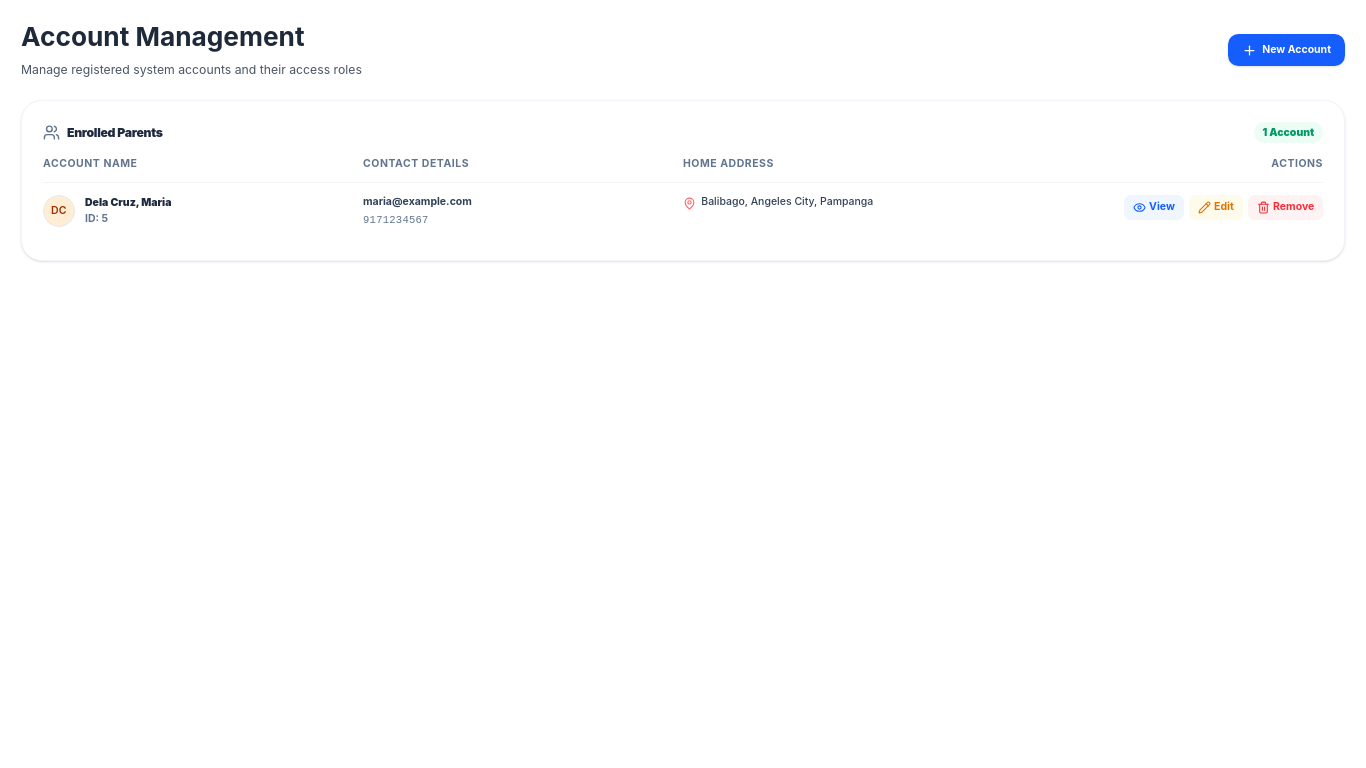
it: AccountManagement add/edit form is a popup › closes with Cancel, the close button, and Escape
The width and height of the screenshot is (1366, 768).
Click the button "New Account": (1286, 50) [1228,34,1345,66]
(page scrolled)
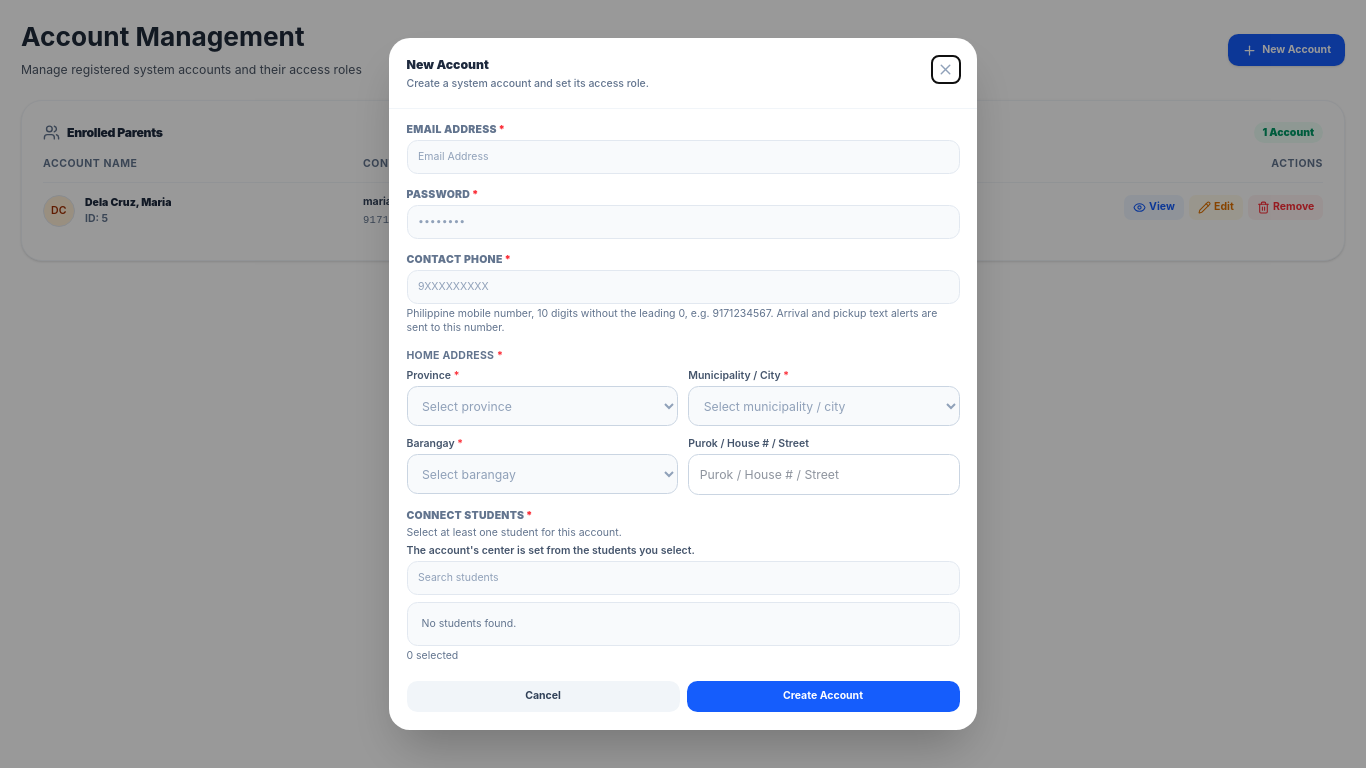
Result: the dialog is shown at [389,38,977,730]
Click the button "Cancel": (543, 696) [406,681,680,712]
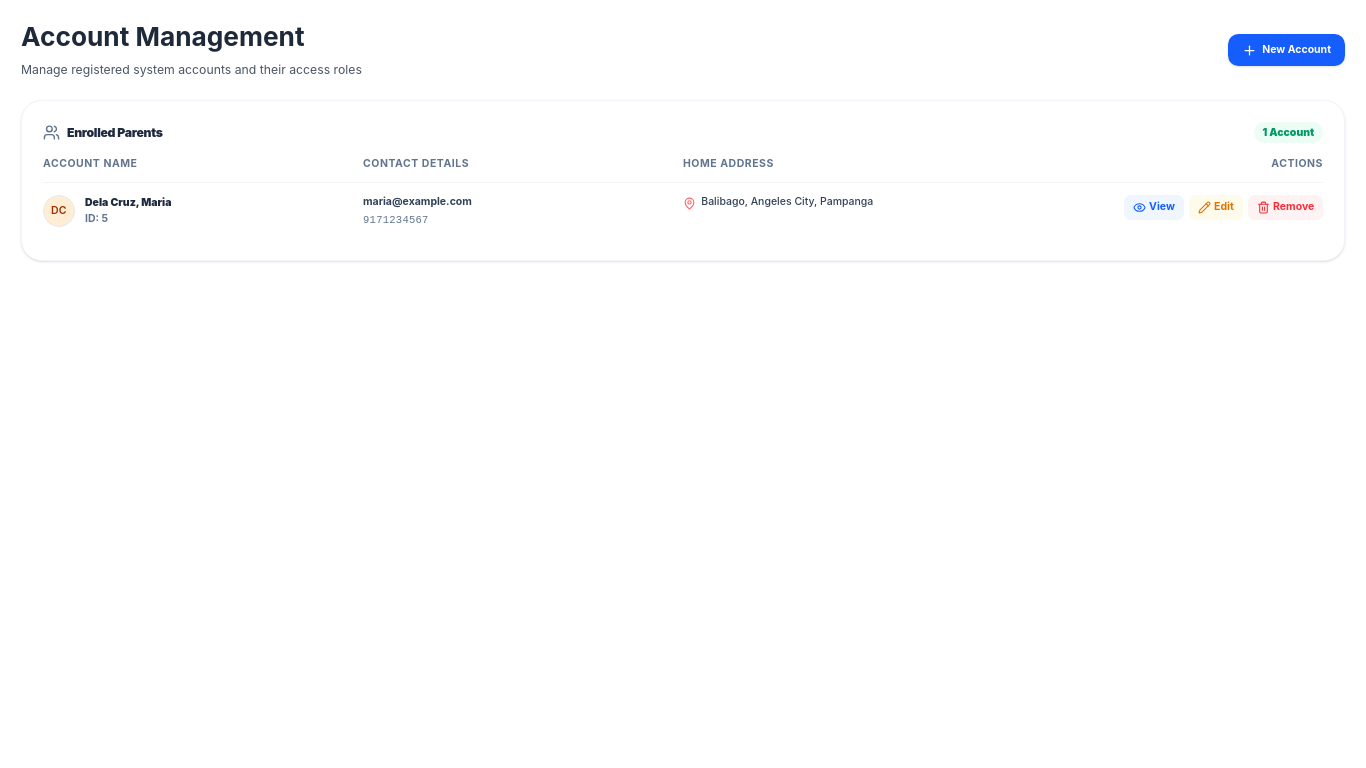
Result: the dialog is gone
Click the button "New Account": (1286, 50) [1228,34,1345,66]
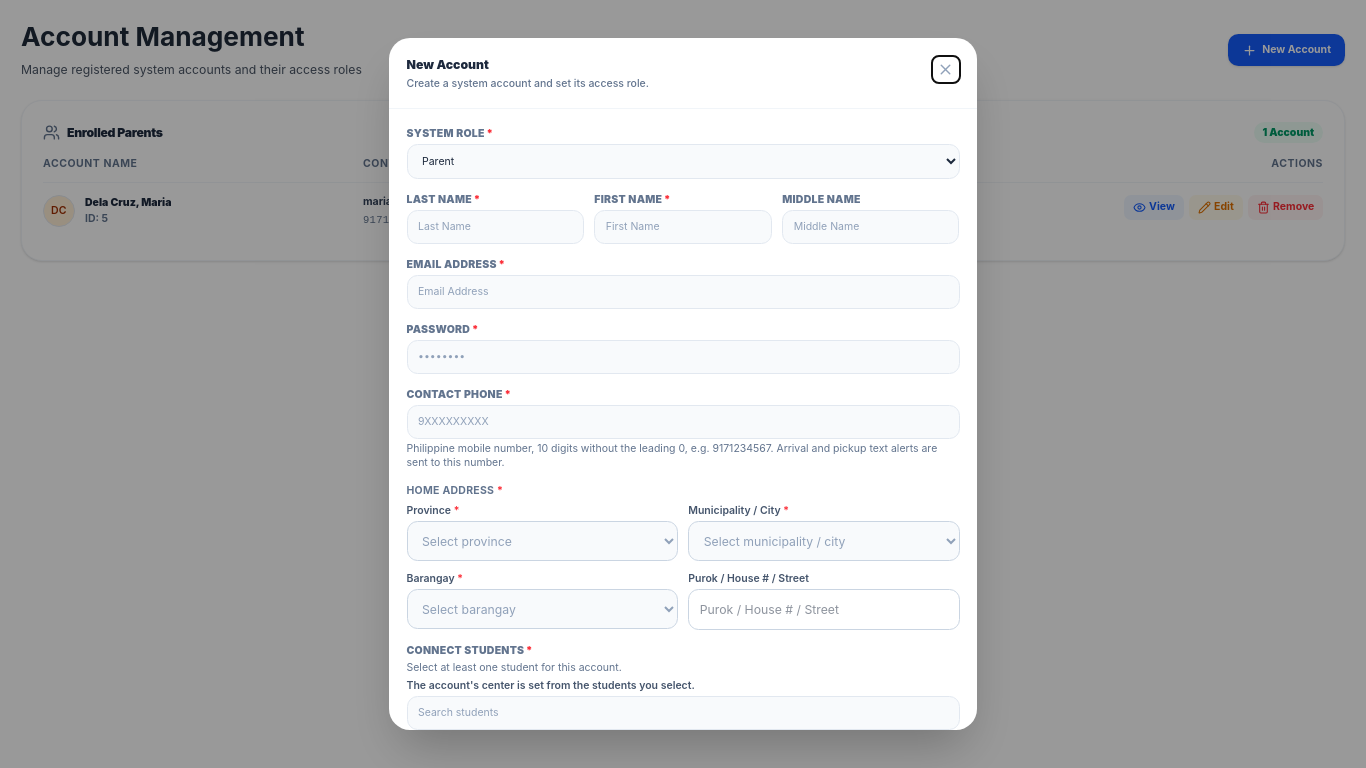
Result: the dialog is shown at [389,38,977,730]
Click the button named "Close modal": (946, 70) [932,56,960,83]
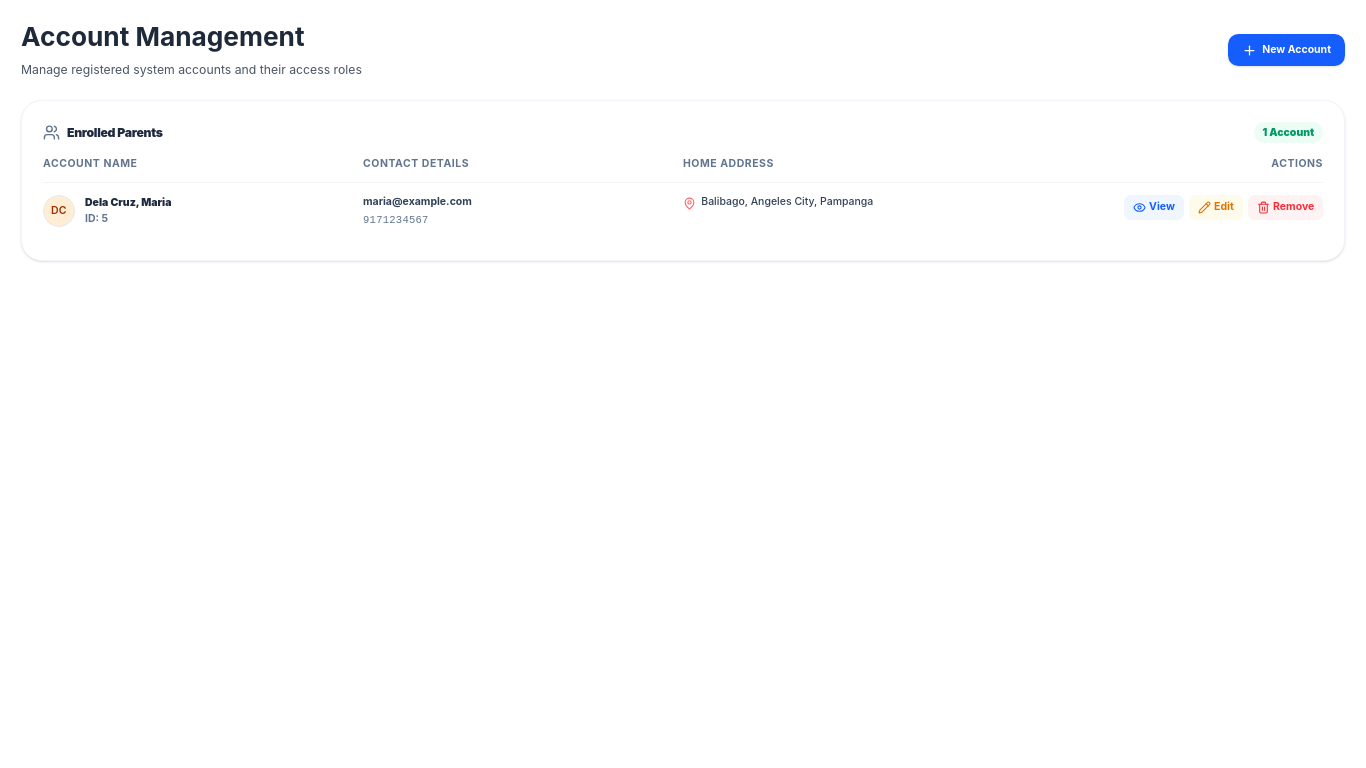
Result: the dialog is gone
Click the button "New Account": (1286, 50) [1228,34,1345,66]
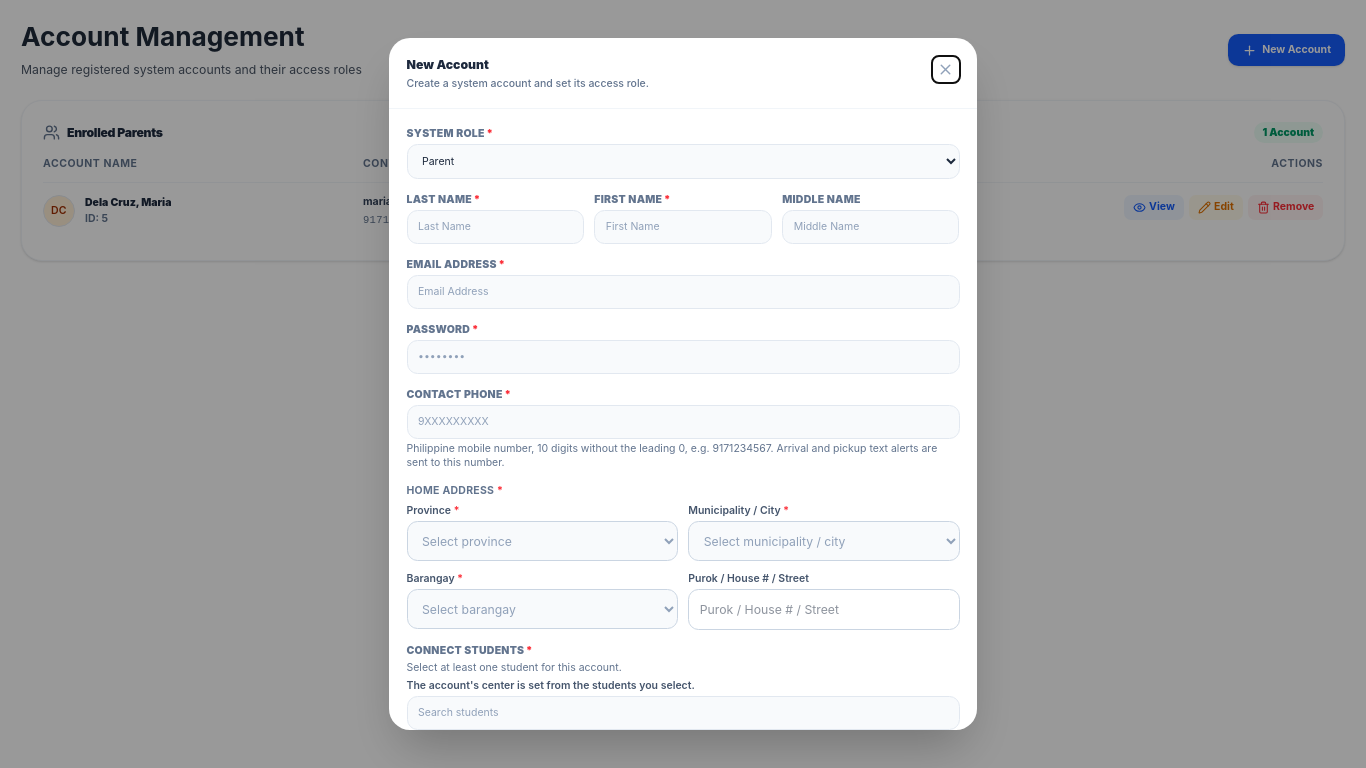
Result: the dialog is shown at [389,38,977,730]
Press Escape
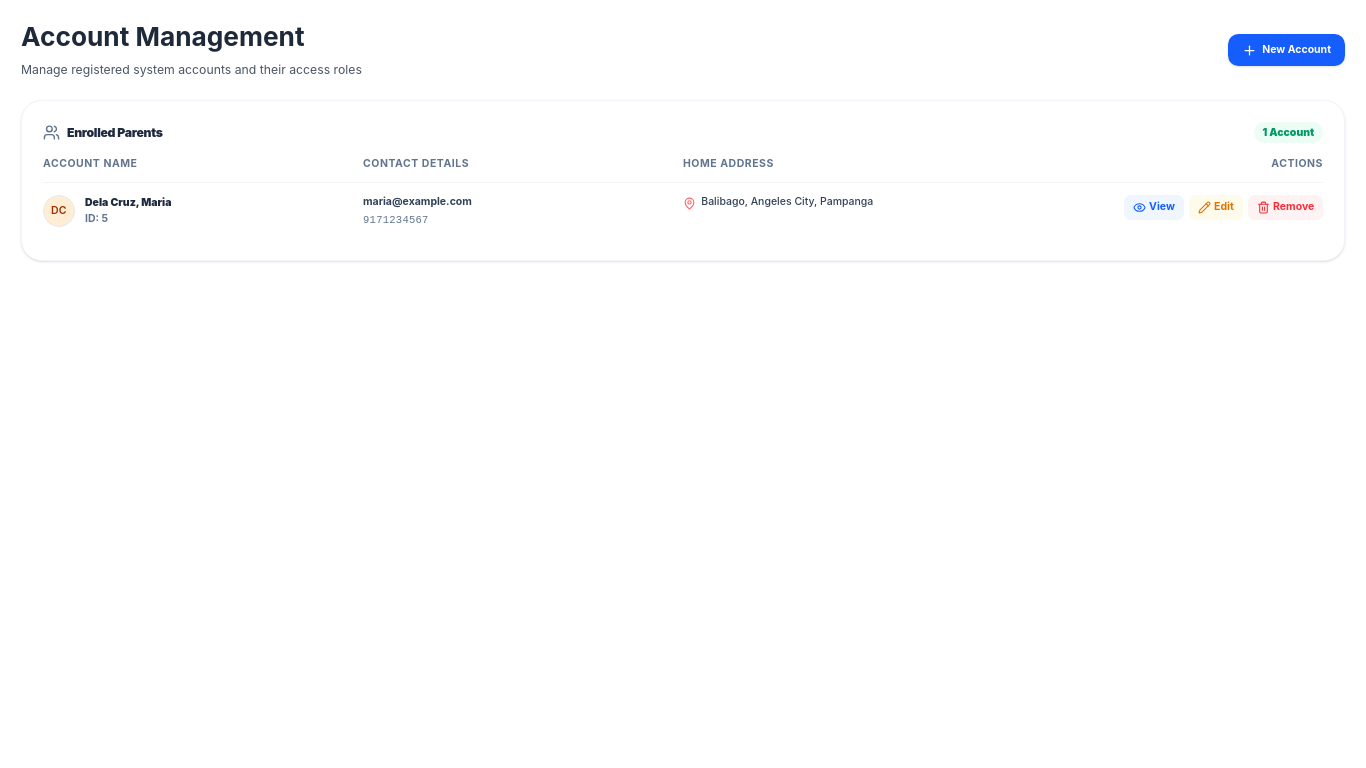
Result: the dialog is gone
